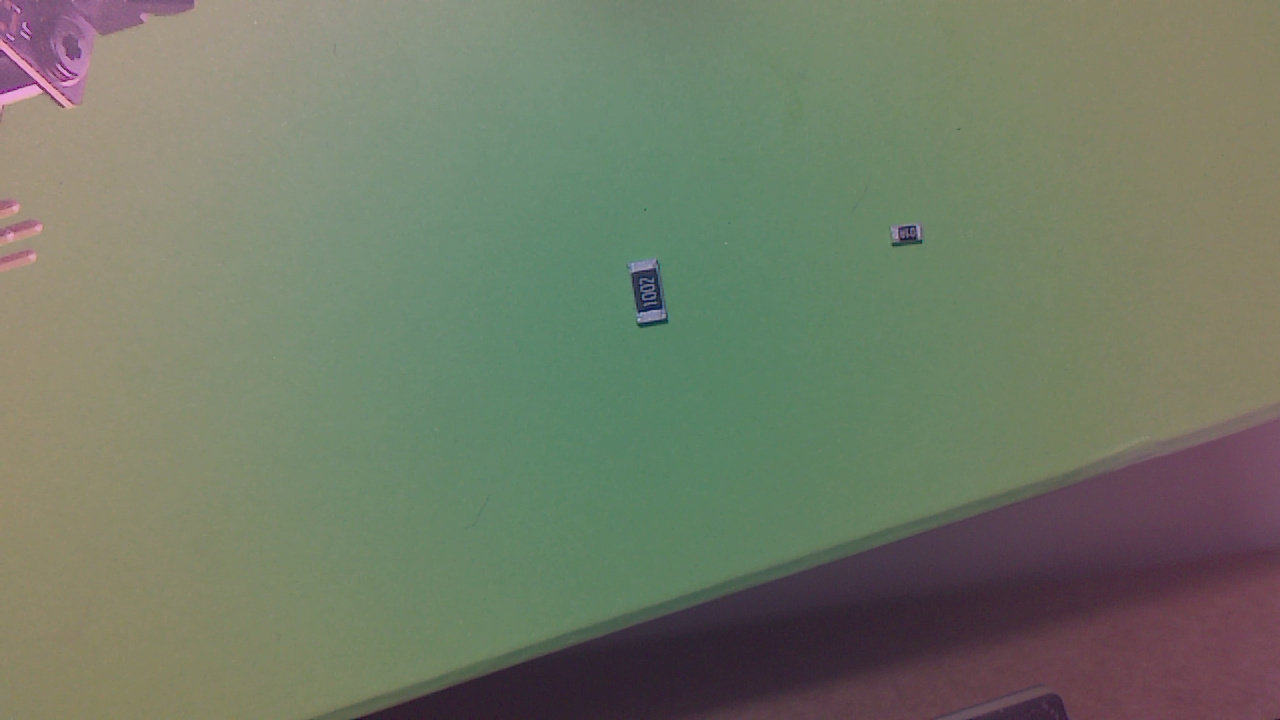Resistor: (638, 260, 676, 334), (896, 228, 927, 251)
